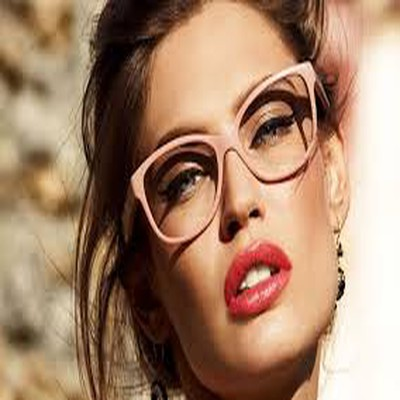eywear: (218, 80, 325, 187), (132, 132, 228, 235)
